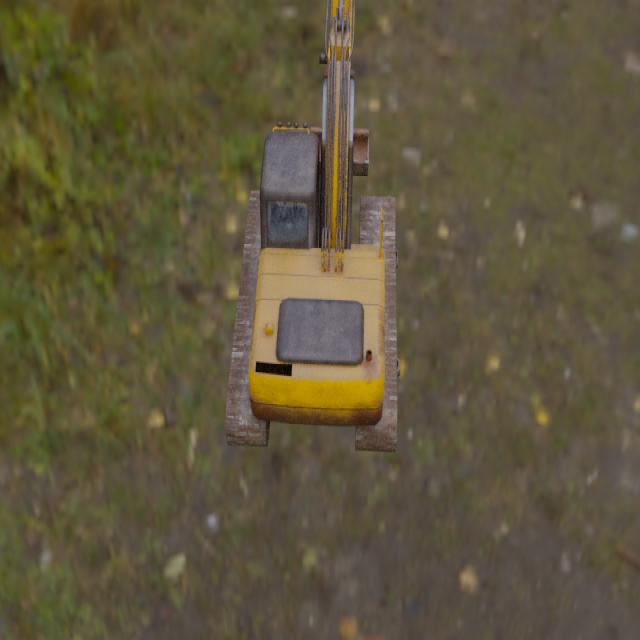excavator: (225, 0, 400, 453)
